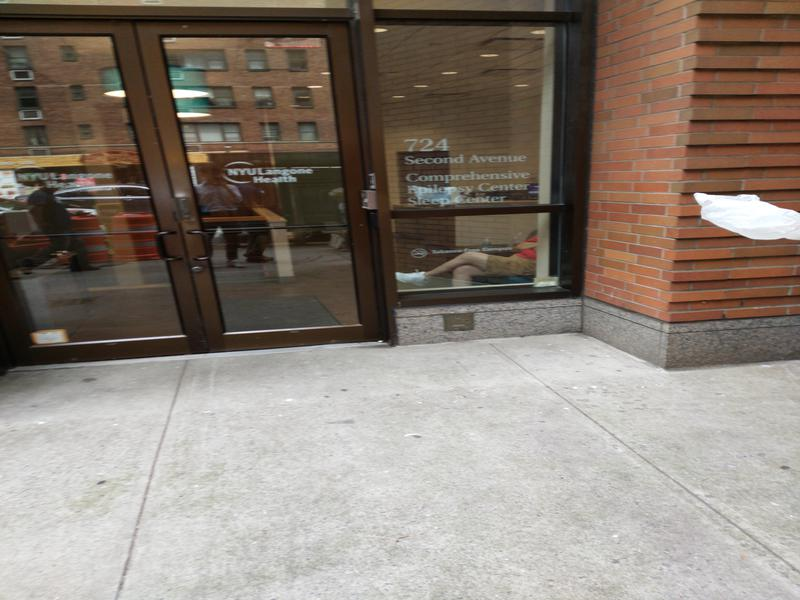double_door: (1, 7, 404, 369)
